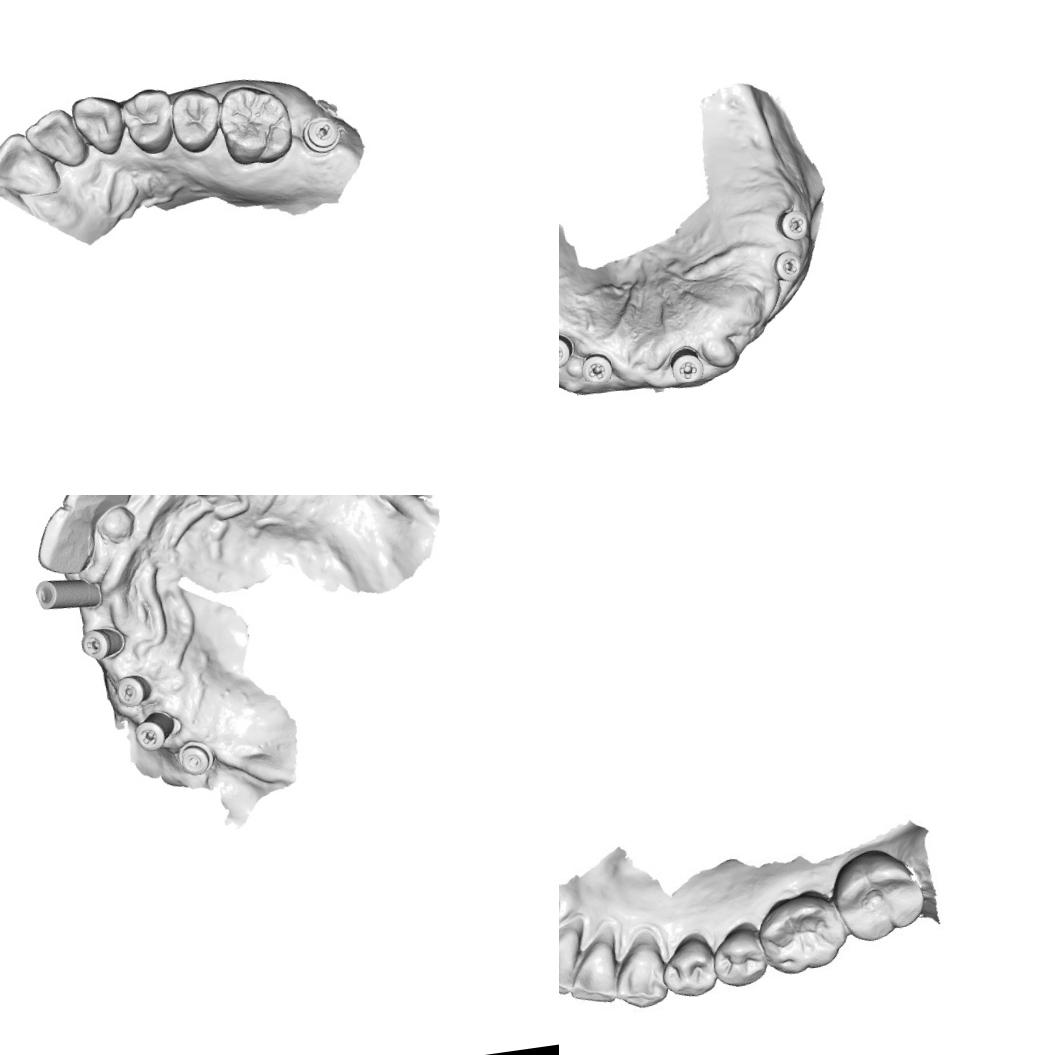canine: (607, 928, 674, 1014), (68, 91, 130, 160)
implant: (32, 572, 106, 618), (175, 737, 218, 778)
implant_minus: (300, 114, 342, 156), (112, 671, 156, 710)
implant_plus: (131, 705, 186, 754), (77, 622, 129, 664), (667, 342, 708, 386), (773, 205, 812, 245), (578, 350, 616, 388), (770, 247, 806, 286), (559, 329, 576, 372)
incisor: (29, 500, 100, 580), (21, 103, 90, 174), (0, 127, 61, 202), (567, 937, 624, 1008), (559, 921, 593, 1004), (54, 495, 135, 522)
molar: (835, 850, 927, 938), (214, 79, 297, 170), (764, 892, 848, 973)
premolar: (706, 916, 770, 997), (656, 926, 722, 1002), (118, 85, 178, 158), (167, 84, 227, 156)
